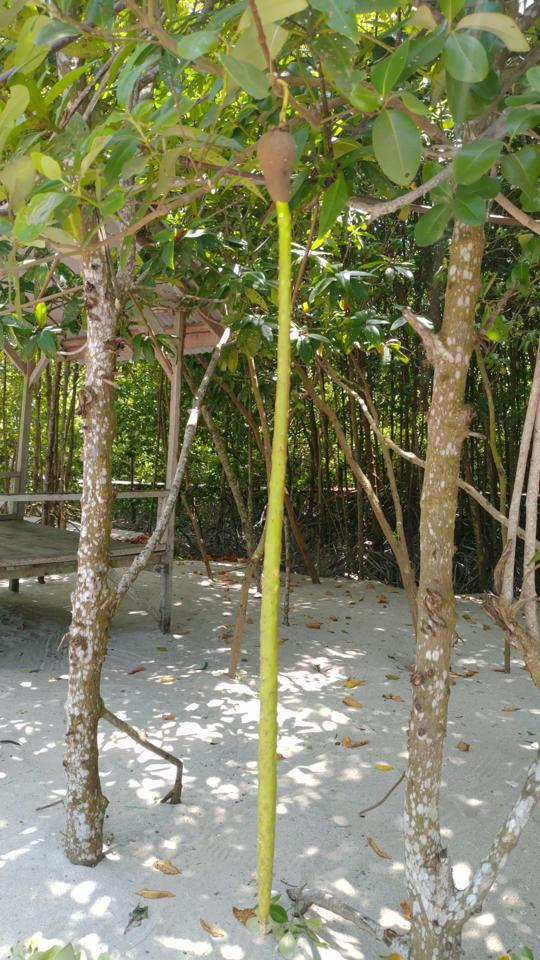mentah: (238, 112, 309, 947)
